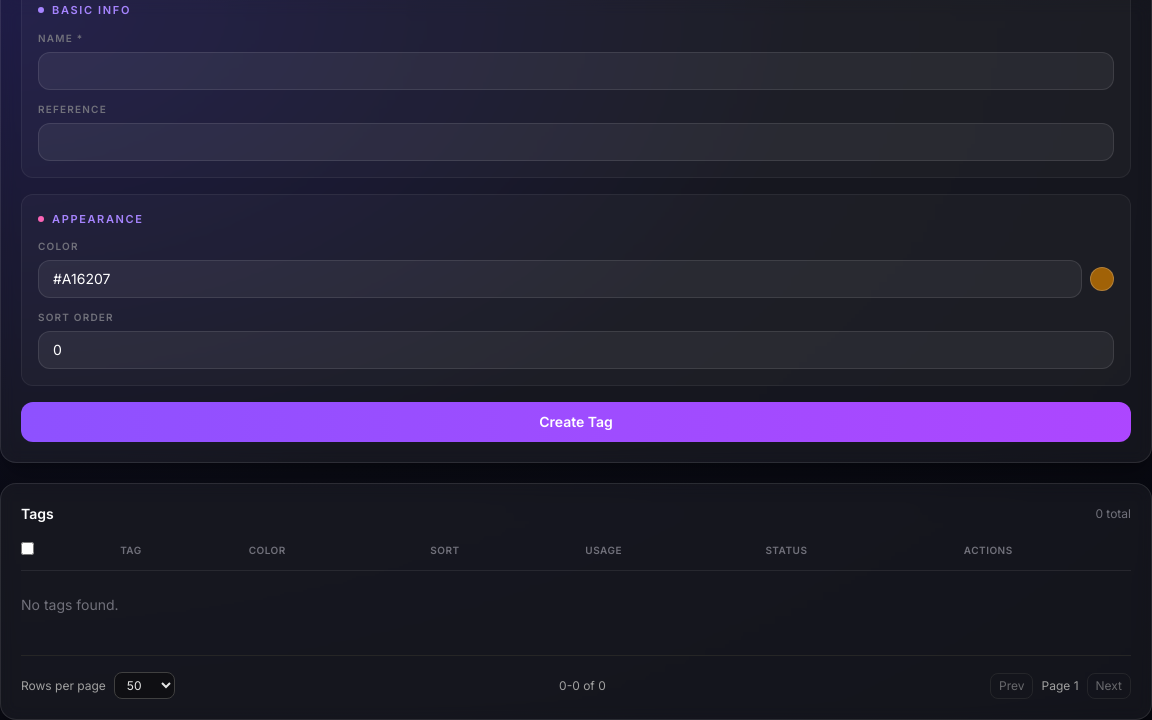
Test: MenuTagsPage — create form › shows error when name is empty on save
(page scrolled)
What coordinates should you click on to do the following:
click the button "Create Tag"
I would click on:
 (576, 422)
Its box is x1=21 y1=402 x2=1131 y2=442.
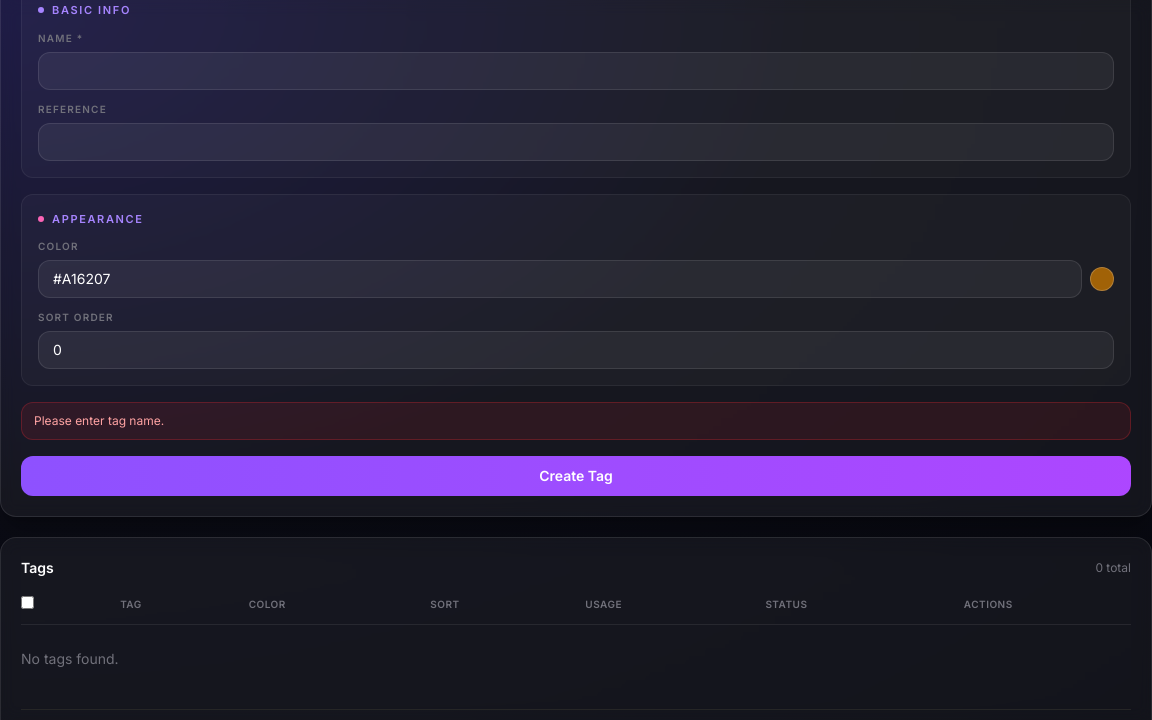
Now the text "Please enter tag name." is shown, box x1=21 y1=402 x2=1131 y2=440
